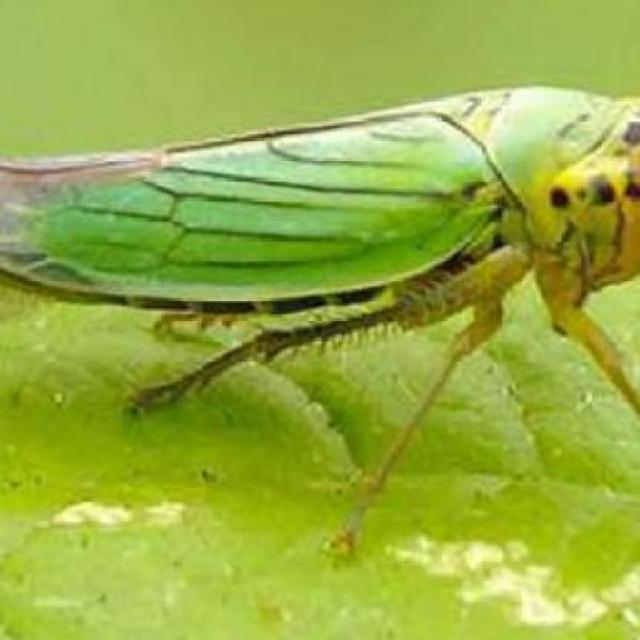green-leafhopper: (2, 86, 638, 490)
